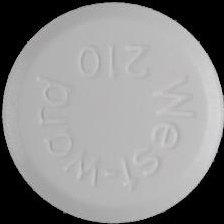0143-1210: (0, 0, 224, 224)
